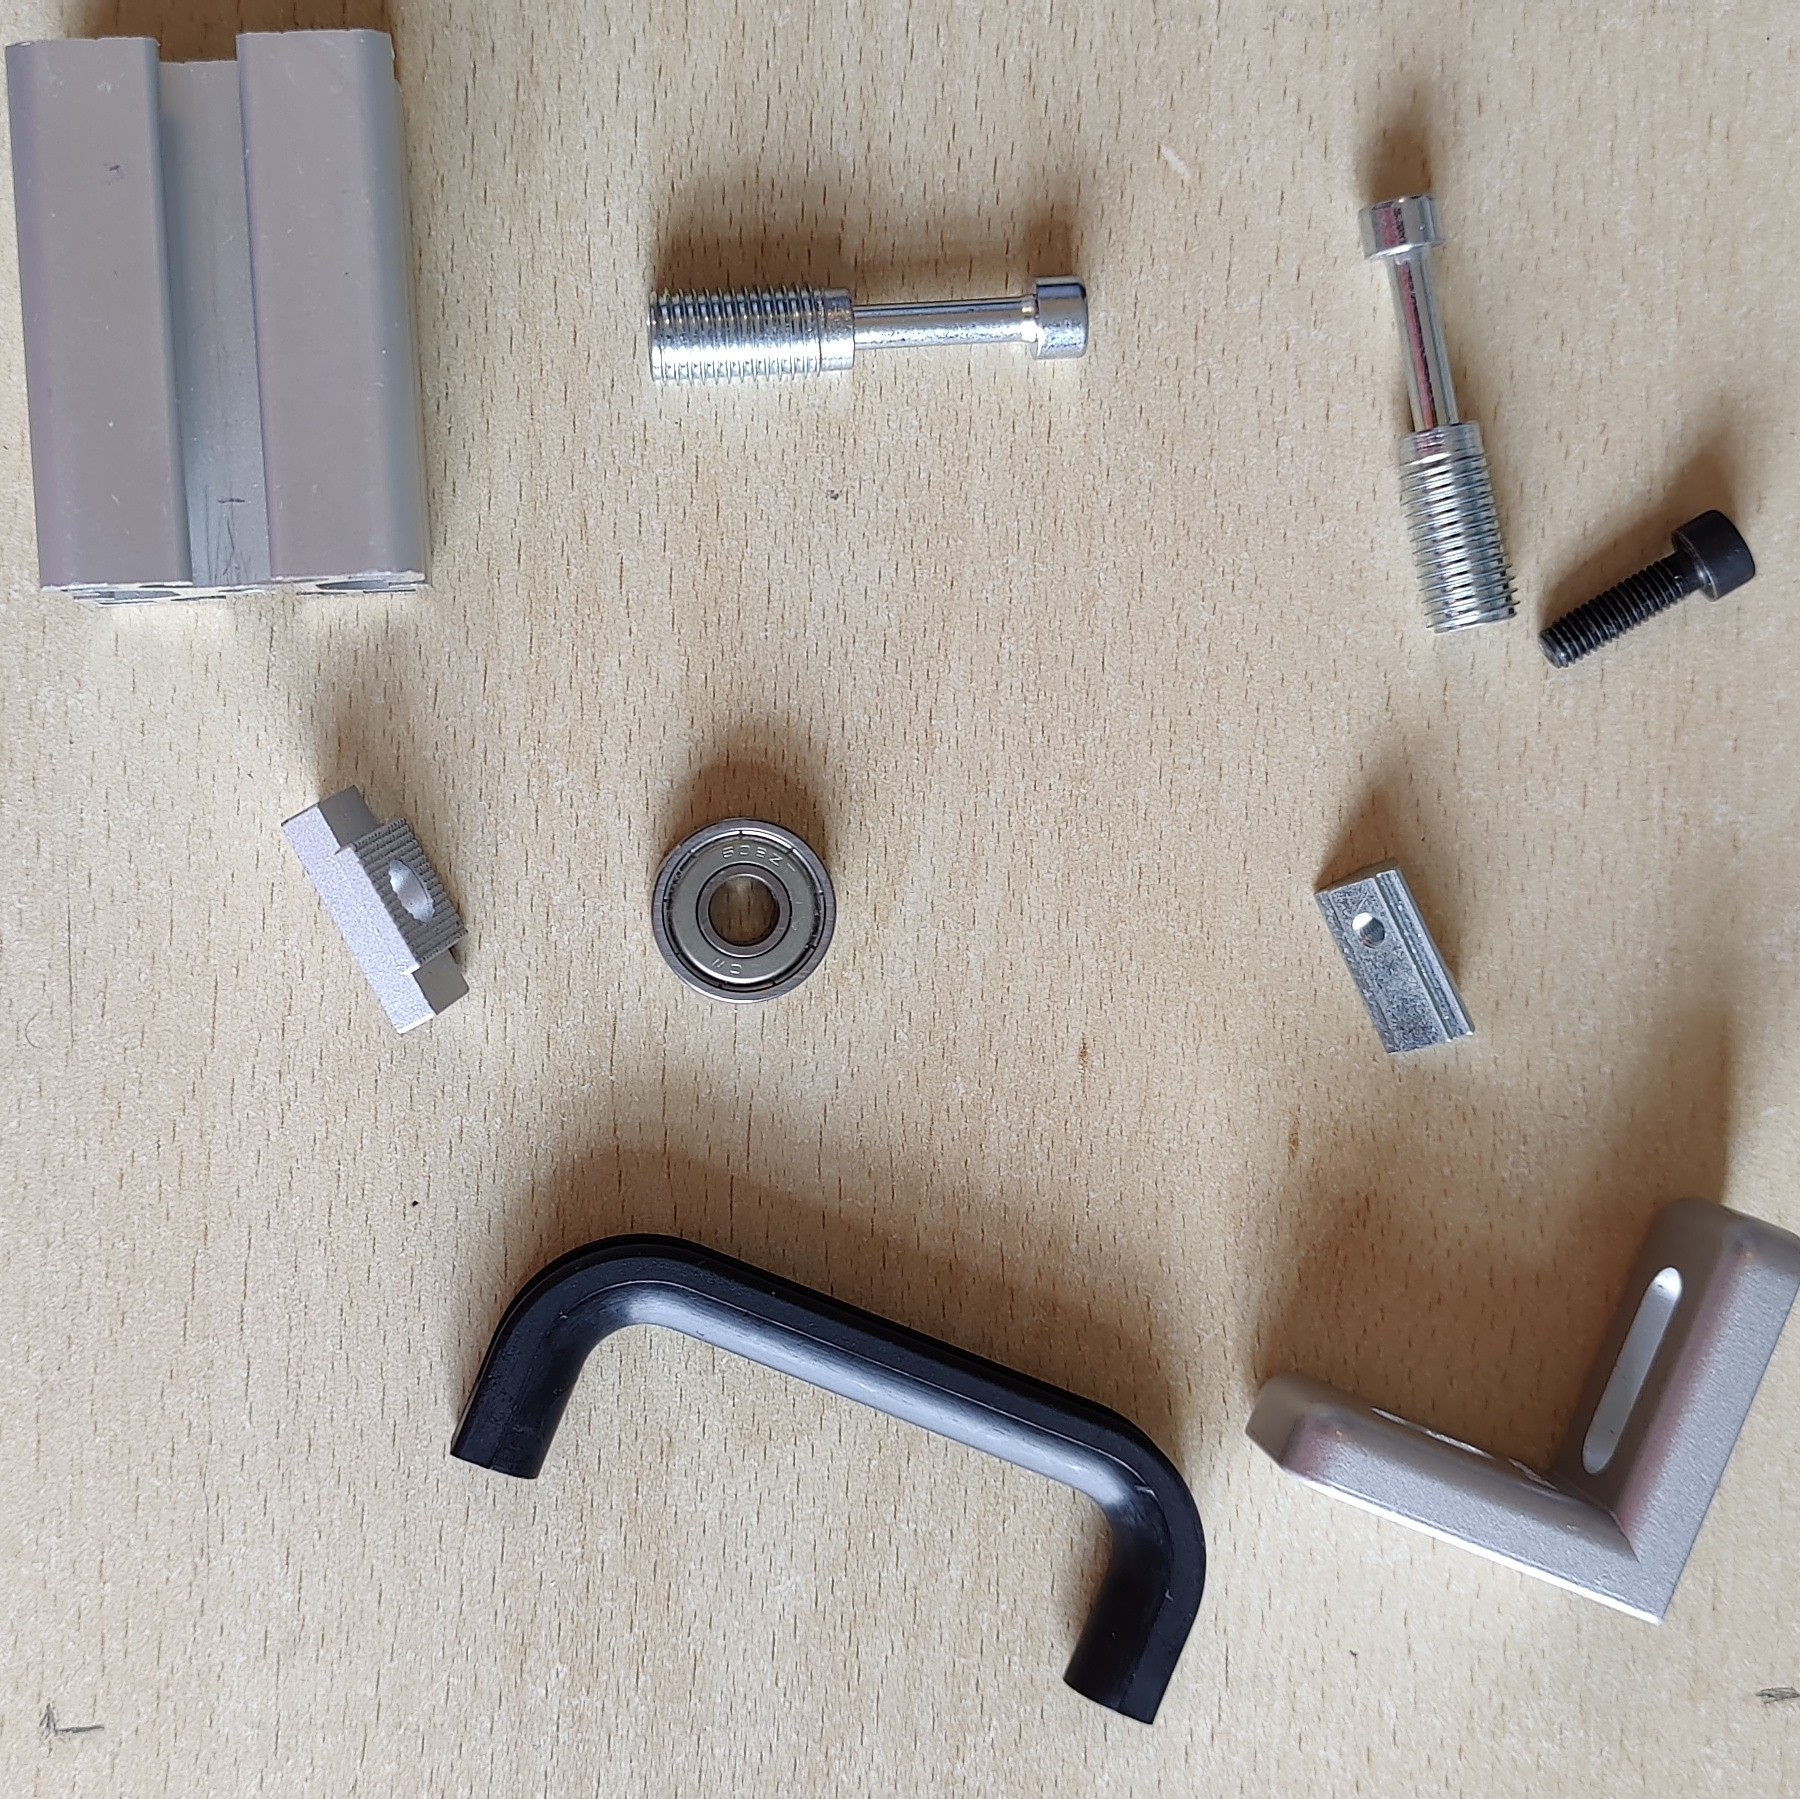Aluminium Extension: (2, 25, 436, 610)
Ball Bearing: (647, 812, 838, 1007)
Multiwinkel: (1242, 1194, 1800, 1633)
Pull Handle: (445, 1229, 1209, 1730)
Shoulder Socket Head Cap Screw: (1355, 191, 1523, 638), (642, 272, 1094, 390)
Socket Head Cap Screw: (1535, 506, 1760, 669)
T Nut Square: (277, 778, 473, 1038)
T Spring Nut: (1308, 852, 1482, 1058)
